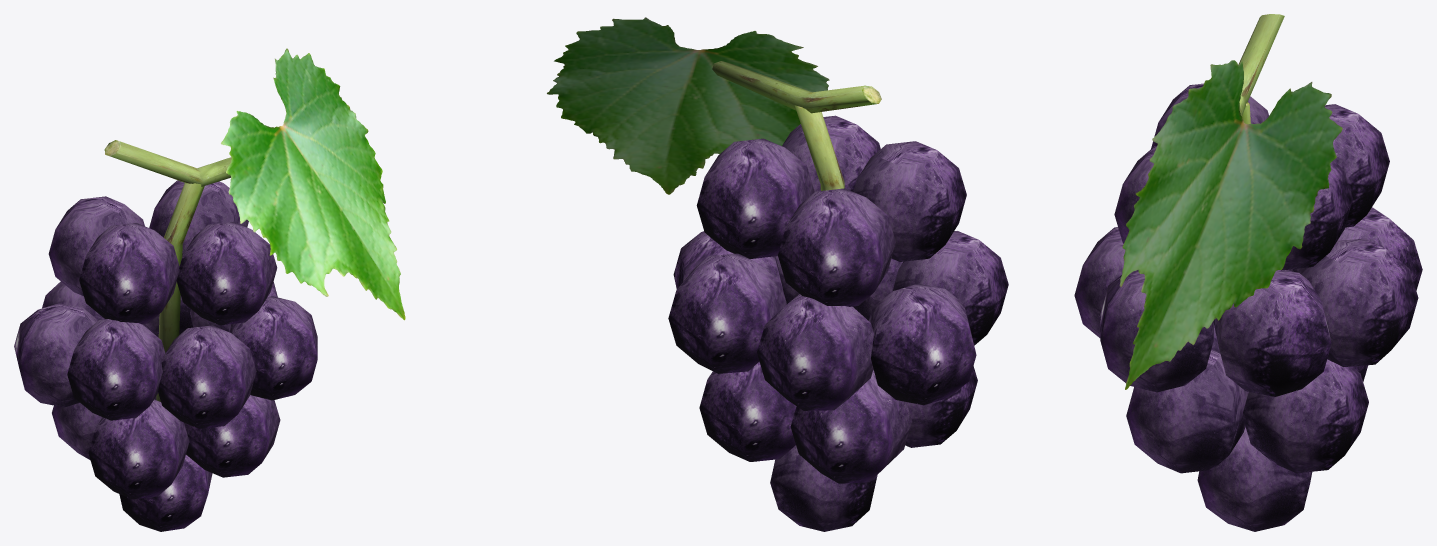
Rendered from grape.fbx.
3 renders of one model, left to right at view 1: azimuth 30°, elevation 25°; view 2: azimuth 150°, elevation 25°; view 3: azimuth 270°, elevation 25°, orthographic. The views are drawn at different scales.
Visible parts, largest first — view 1: grape, leaf; view 2: grape, leaf; view 3: grape, leaf.
Part boxes in pixels (x1,y1,x2,y2): grape: (14, 140, 317, 531); leaf: (221, 48, 405, 320); grape: (668, 61, 1008, 531); leaf: (547, 17, 829, 194); grape: (1074, 14, 1422, 531); leaf: (1119, 60, 1342, 389).
Bounding box in the file's own units: 37.9 × 36.18 × 23.6.
